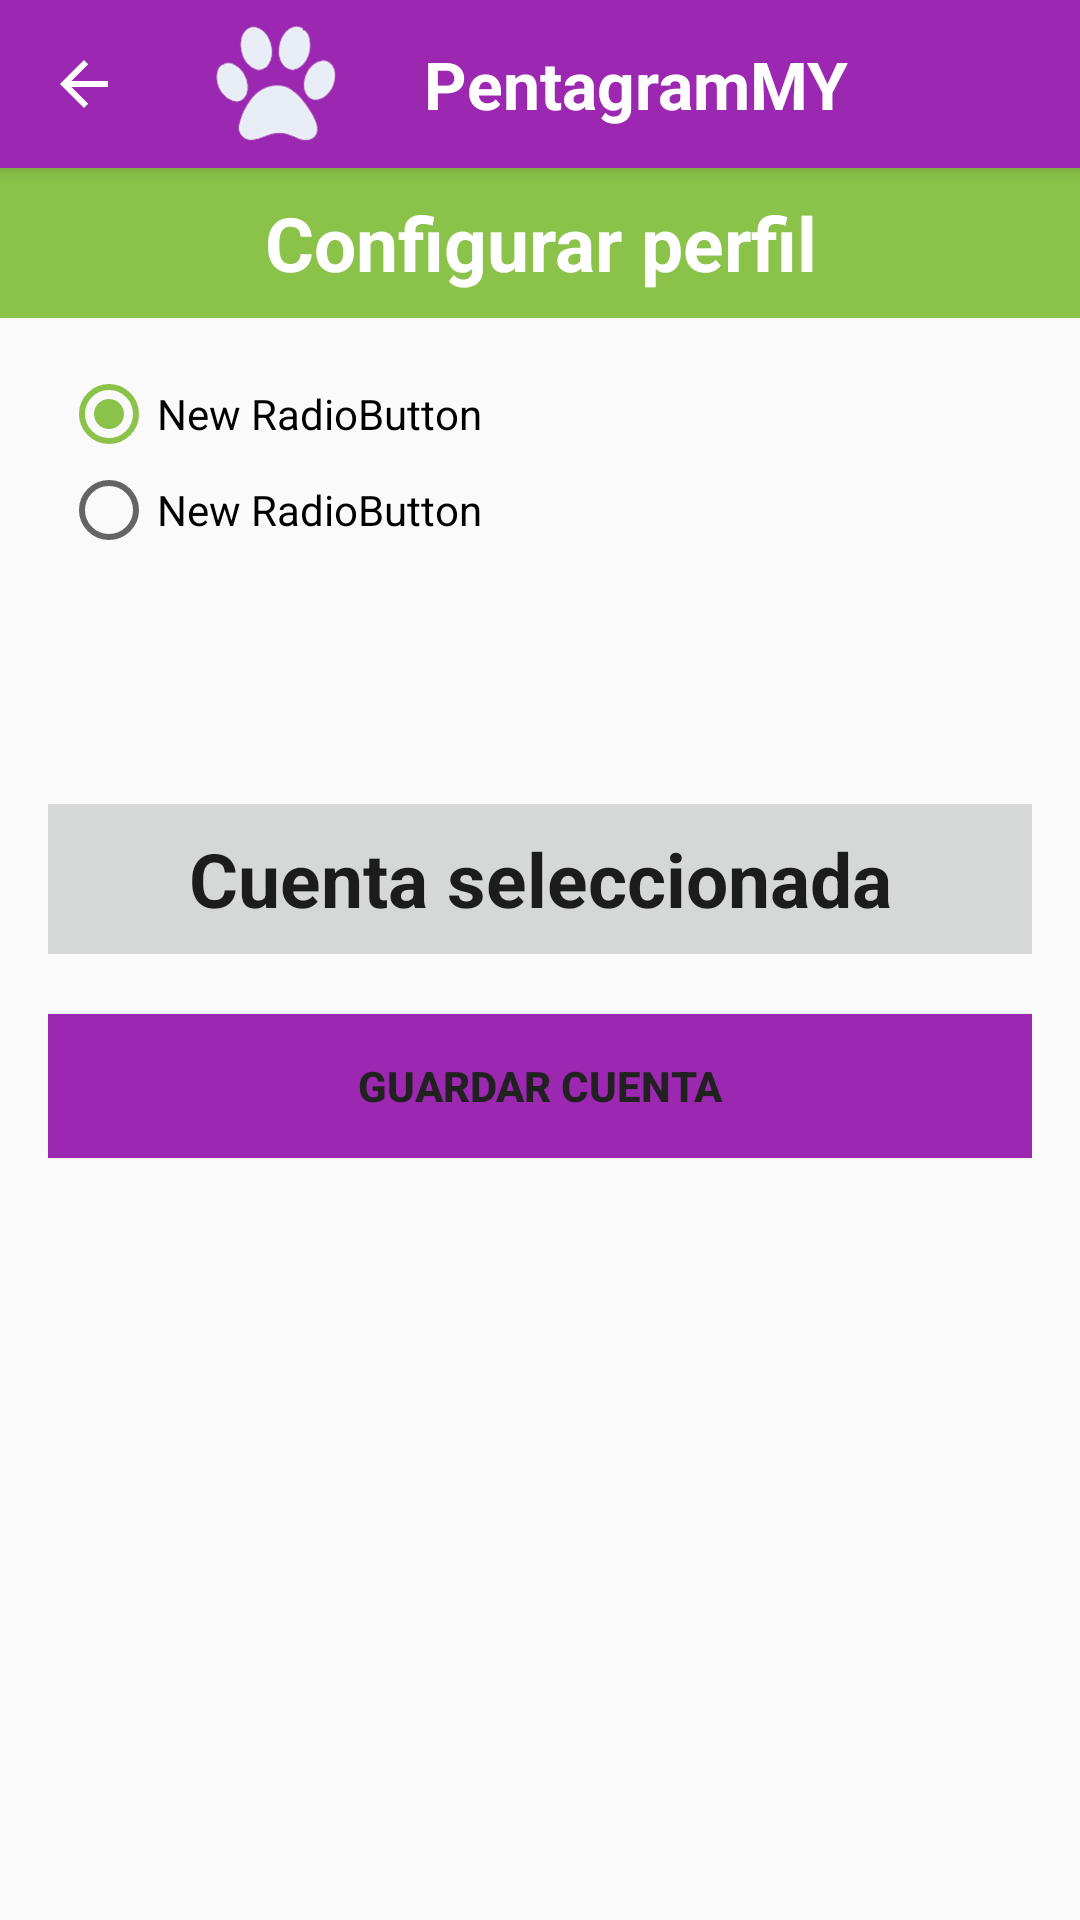

Named icons in this screenshot (1080*1920) and their bounding boxes, (x1, y1, x2, y2):
huellapet: (216, 26, 336, 141)
